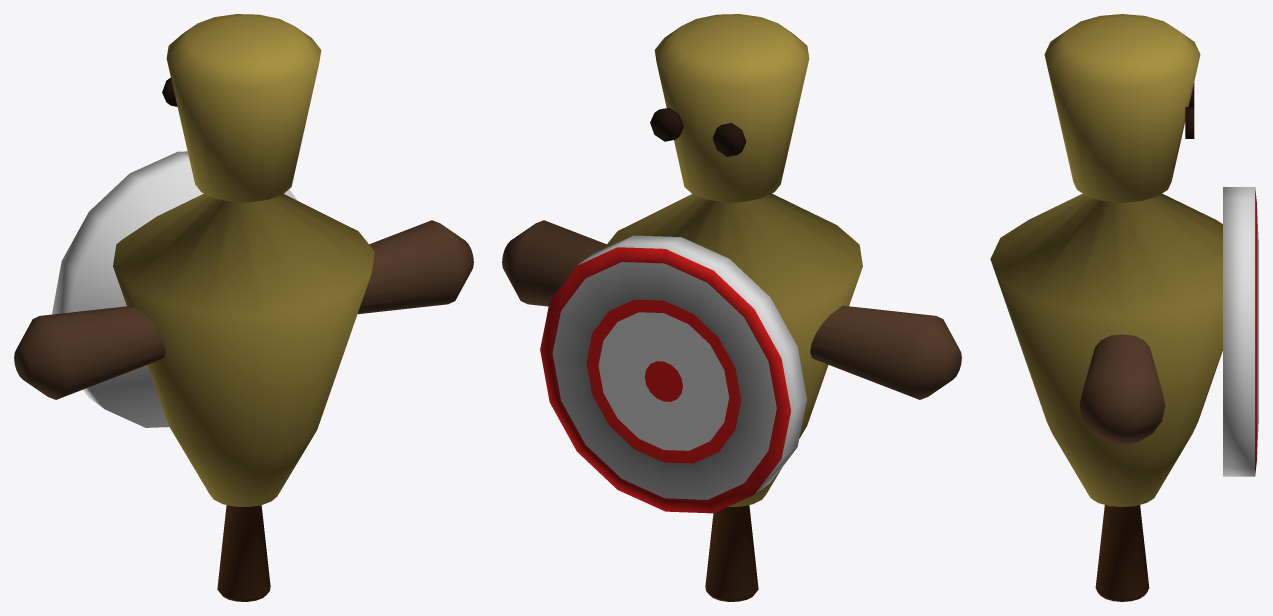
Rendered from TrainingDoll.fbx.
3 views of the same model, side by side, from view 1: azimuth 30°, elevation 25°; view 2: azimuth 150°, elevation 25°; view 3: azimuth 270°, elevation 25° (orthographic).
Visible parts, largest first — view 1: Cylinder; view 2: Cylinder; view 3: Cylinder.
Part boxes in pixels (bbox=[...]): Cylinder: bbox=[14, 14, 473, 601]; Cylinder: bbox=[502, 14, 961, 601]; Cylinder: bbox=[990, 14, 1258, 601].
Bounding box in the file's own units: 571 × 696 × 300.
